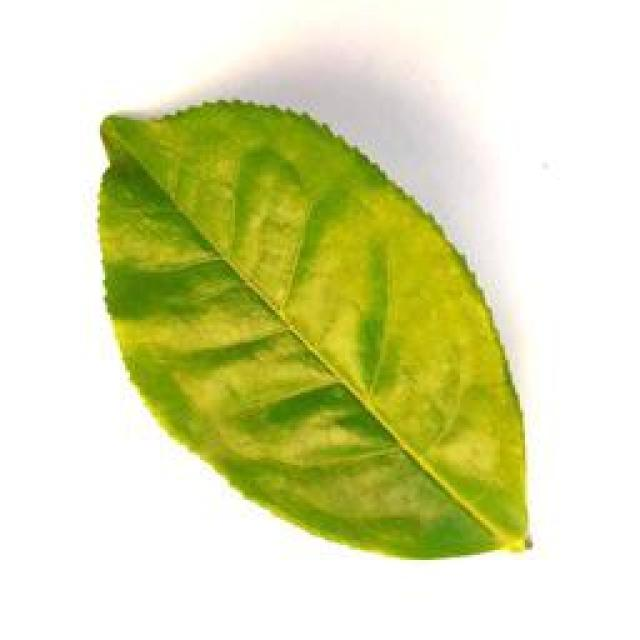Healthy: (95, 101, 537, 554)
